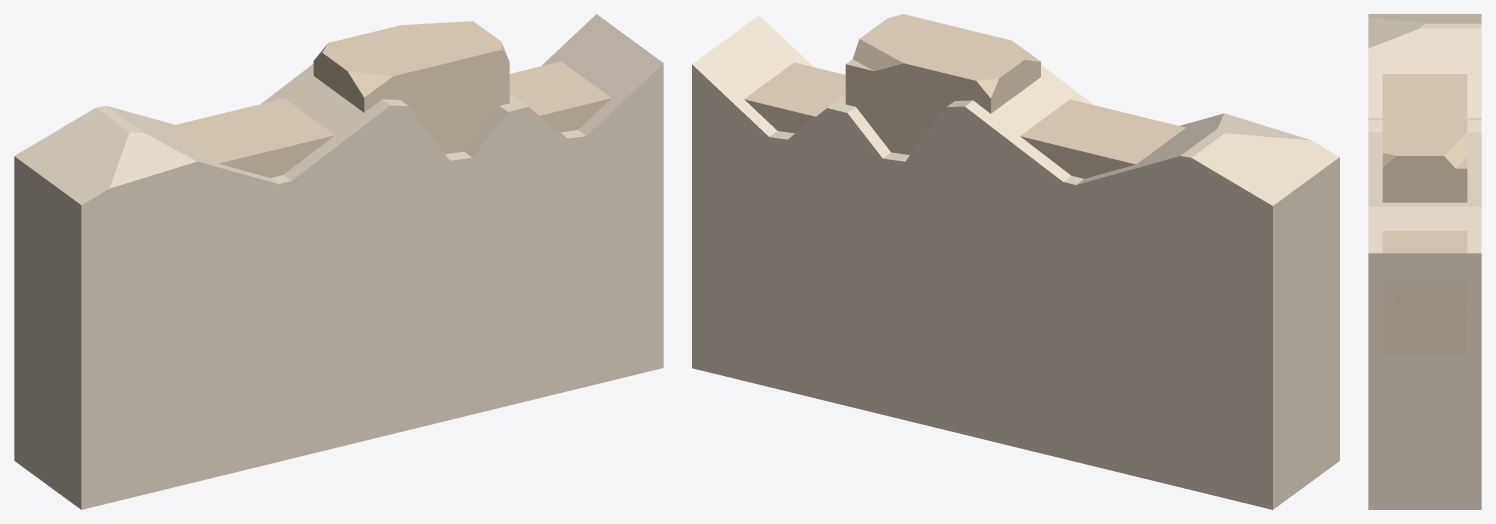
The model's file is Wall_Ruined_Half_2.glb.
3 renders of one model, left to right at view 1: azimuth 30°, elevation 25°; view 2: azimuth 150°, elevation 25°; view 3: azimuth 270°, elevation 25°, orthographic. The views are drawn at different scales.
Parts seen in each view (by area): view 1: Wall_Ruined_Half_2; view 2: Wall_Ruined_Half_2; view 3: Wall_Ruined_Half_2.
Boxes of the visible parts, x1=… form: Wall_Ruined_Half_2: x1=14, y1=14, x2=663, y2=509; Wall_Ruined_Half_2: x1=692, y1=14, x2=1339, y2=509; Wall_Ruined_Half_2: x1=1368, y1=14, x2=1481, y2=509.
Bounding box in the file's own units: 1 × 0.5734 × 0.2.
